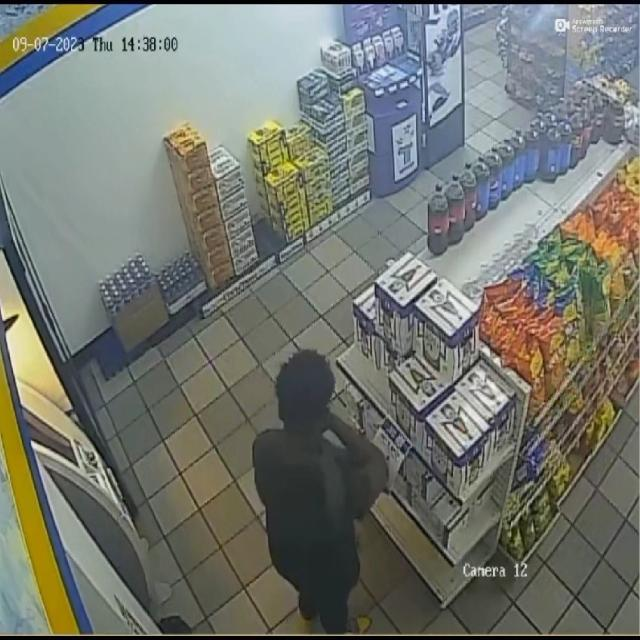Normal: (222, 339, 402, 640)
